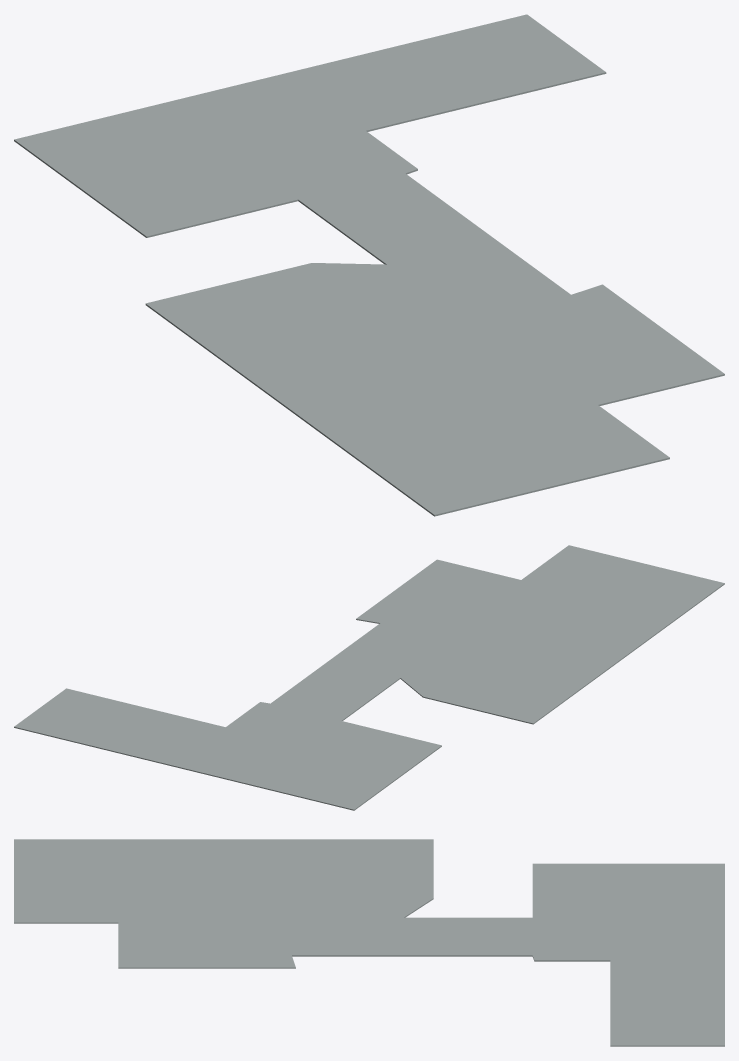
The model's file is electrical_floor.fbx.
3 renders of one model, top to bottom at view 1: azimuth 30°, elevation 25°; view 2: azimuth 150°, elevation 25°; view 3: azimuth 270°, elevation 25°, orthographic. The views are drawn at different scales.
Parts seen in each view (by area): view 1: ElectricalFloor; view 2: ElectricalFloor; view 3: ElectricalFloor.
Part boxes in pixels (left/top/right/bottom): ElectricalFloor: left=14, top=14, right=724, bottom=516; ElectricalFloor: left=14, top=545, right=724, bottom=810; ElectricalFloor: left=14, top=839, right=724, bottom=1046.
Bounding box in the file's own units: 3757 × 10 × 5473.
